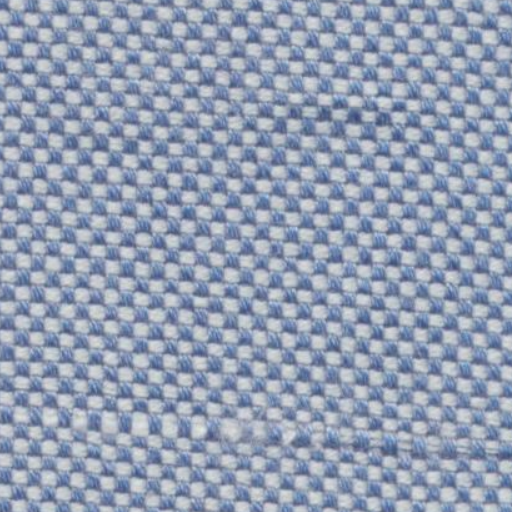DaiSha: (16, 387, 496, 467)
